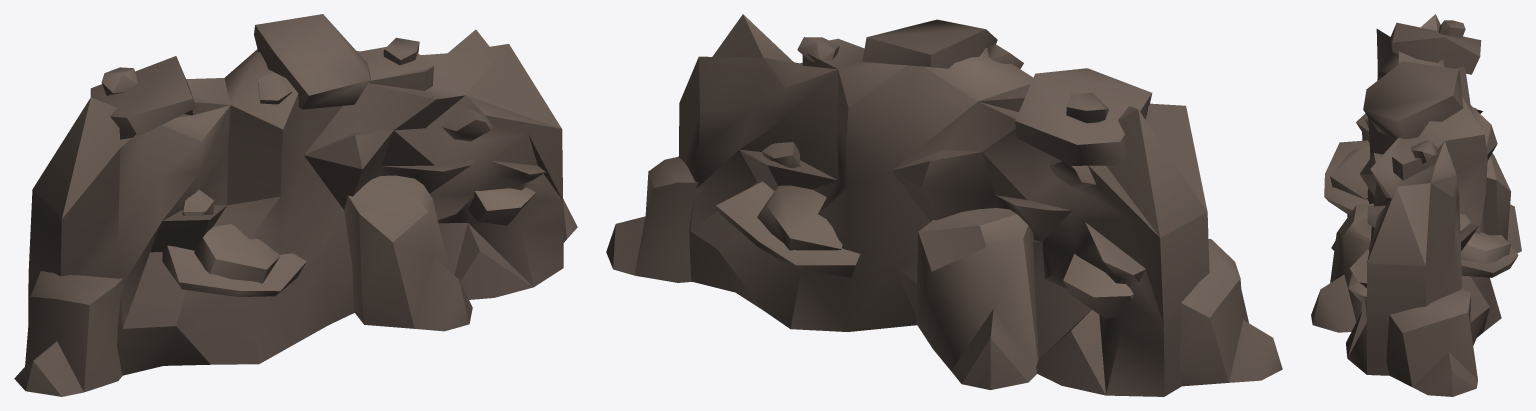
The model's file is rubble_large.glb.
The picture shows the model from 3 angles, left to right: view 1: azimuth 30°, elevation 25°; view 2: azimuth 150°, elevation 25°; view 3: azimuth 270°, elevation 25°; orthographic projection. The views are drawn at different scales.
Visible parts, largest first — view 1: rubble_large; view 2: rubble_large; view 3: rubble_large.
Part boxes in pixels (x1,y1,x2,y2): rubble_large: (14, 14, 577, 396); rubble_large: (606, 14, 1282, 396); rubble_large: (1311, 14, 1521, 396).
Bounding box in the file's own units: 8.13 × 3.5 × 3.18.
Materials: 1 (1 with a texture image).
